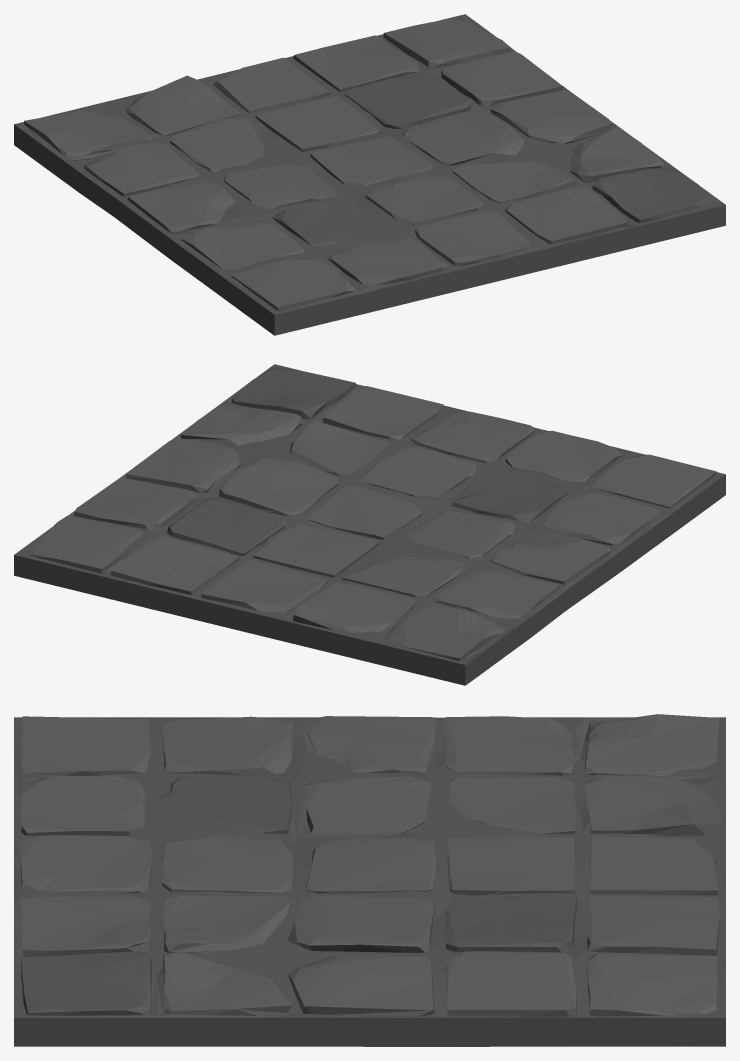
Rendered from Tile_01.glb.
3 renders of one model, top to bottom at view 1: azimuth 30°, elevation 25°; view 2: azimuth 150°, elevation 25°; view 3: azimuth 270°, elevation 25°, orthographic. The views are drawn at different scales.
Visible parts, largest first — view 1: Tile_01_LOD0; view 2: Tile_01_LOD0; view 3: Tile_01_LOD0.
Part boxes in pixels (box(x1,y1,x2,y2)): Tile_01_LOD0: box(14, 14, 725, 335); Tile_01_LOD0: box(14, 364, 725, 685); Tile_01_LOD0: box(14, 714, 725, 1046).
Size of what is drawn, in the model's own units: 2.5 by 0.1677 by 2.5.
Materials: 1 (1 with a texture image).
